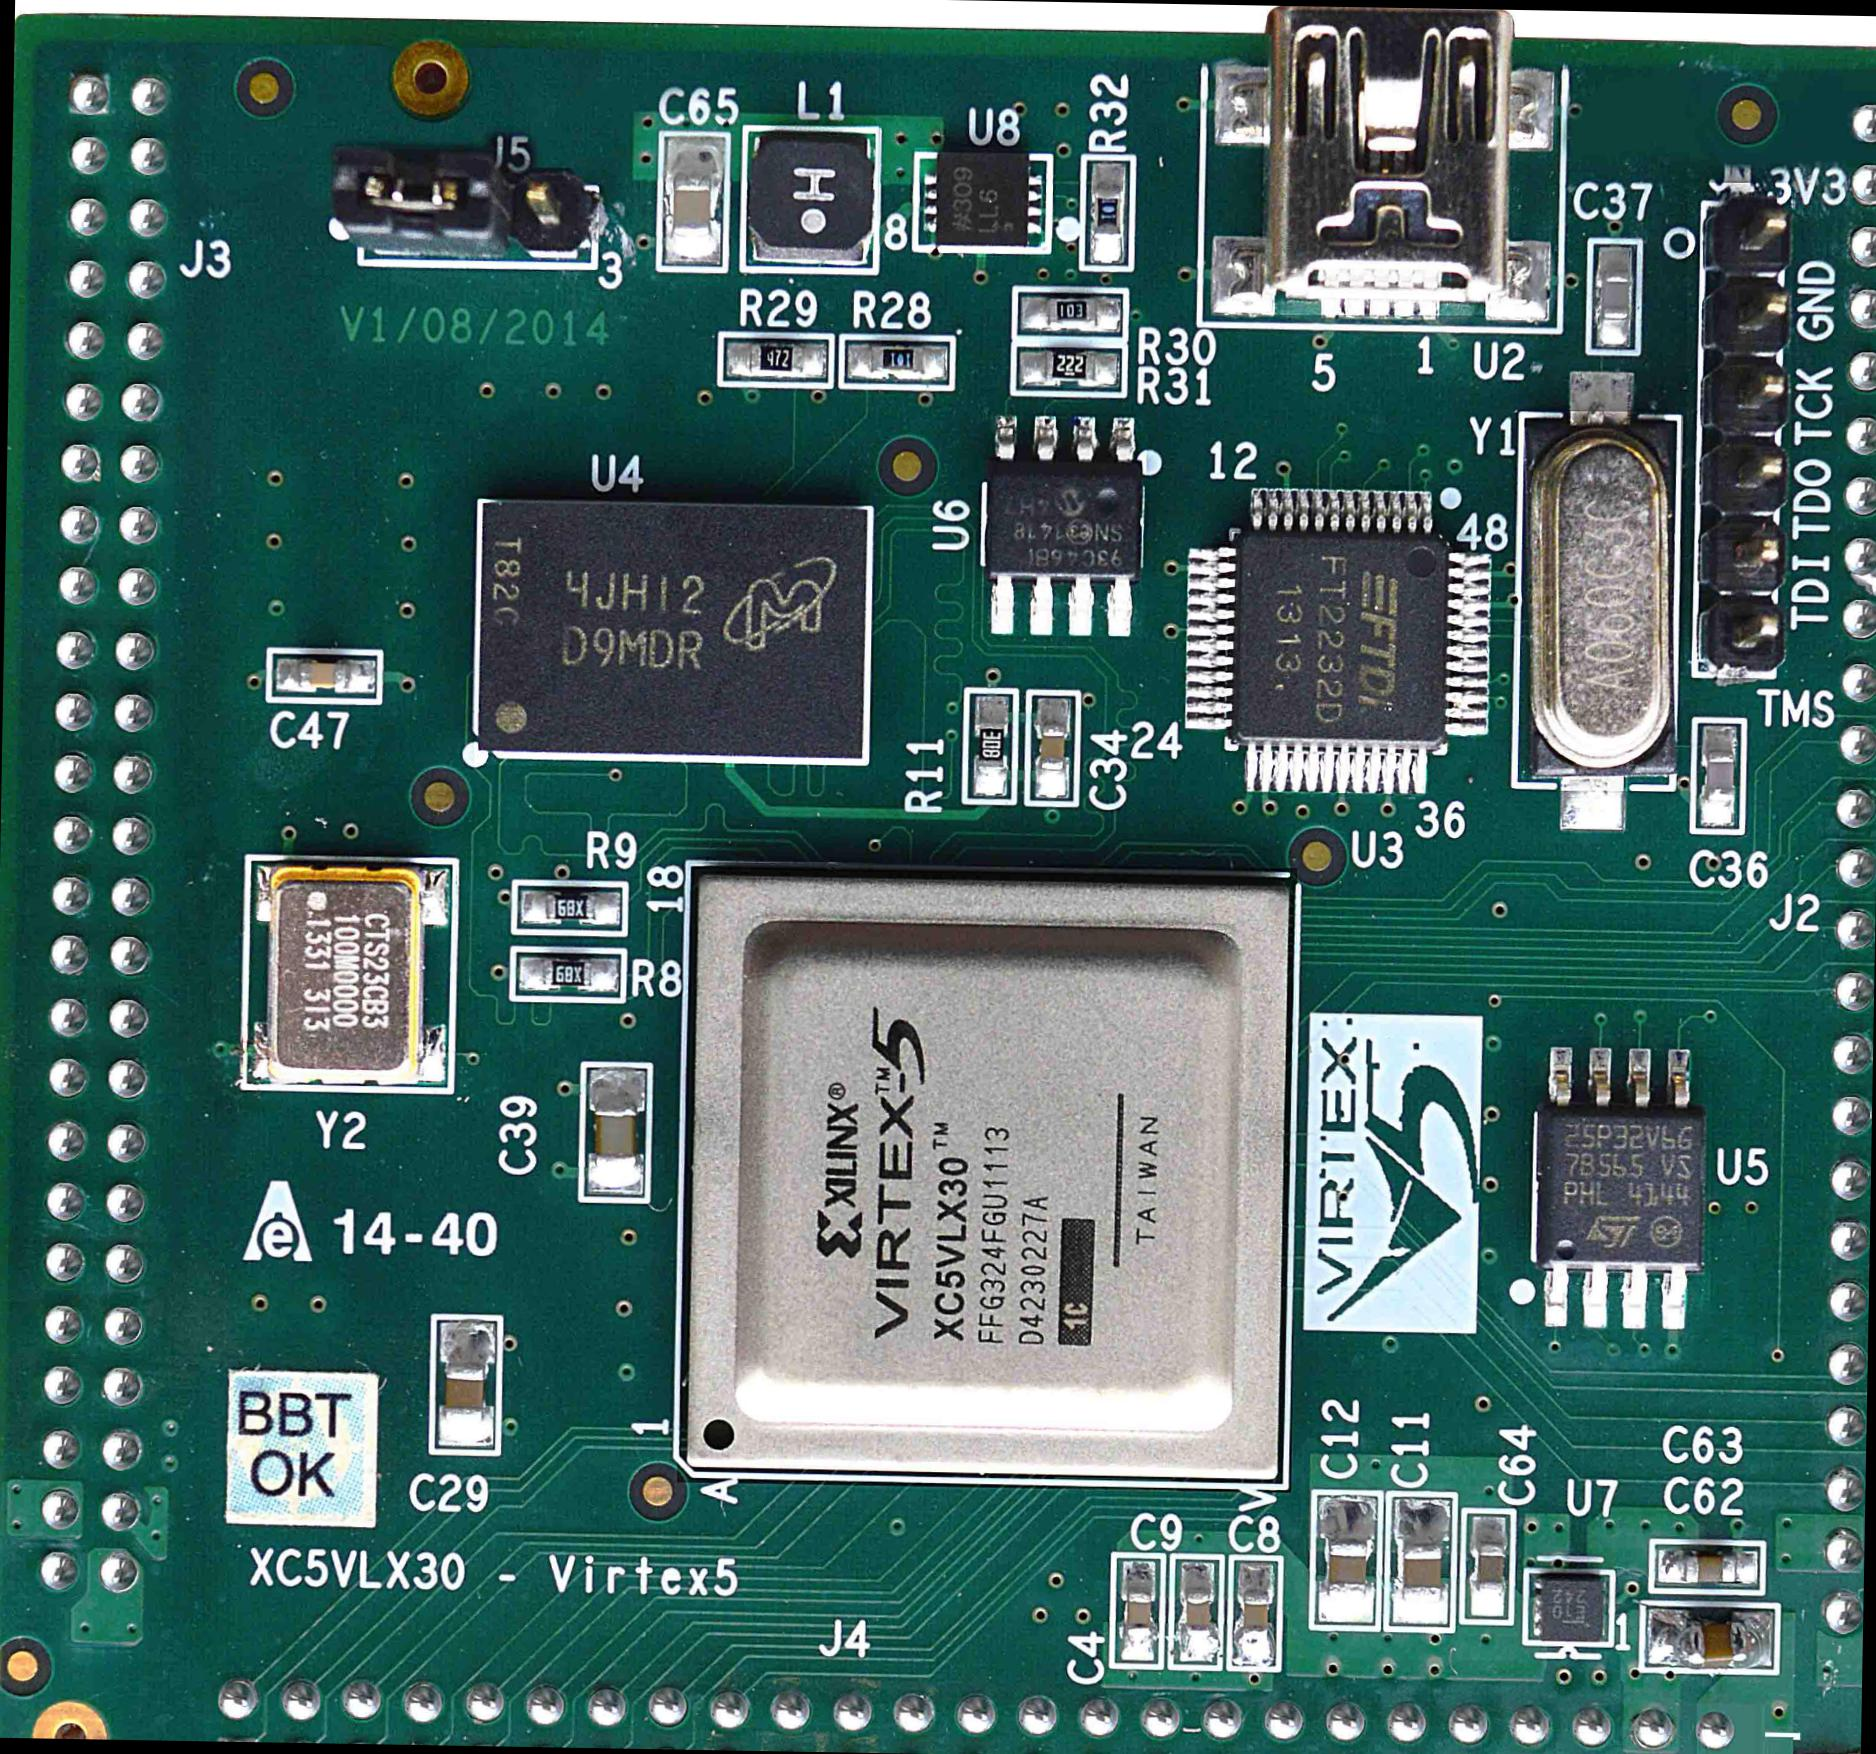Capacitor: (1642, 1602, 1779, 1672), (660, 135, 730, 272), (582, 1064, 650, 1202), (433, 1315, 499, 1455), (1311, 1493, 1377, 1633), (1390, 1494, 1452, 1632), (1584, 238, 1642, 354), (1460, 1510, 1516, 1628), (1170, 1555, 1226, 1668), (1026, 691, 1080, 807), (1110, 1554, 1164, 1667), (1230, 1558, 1282, 1672), (1652, 1539, 1762, 1592), (269, 651, 380, 702), (1696, 723, 1742, 832)
Clock: (1512, 365, 1672, 836), (246, 858, 454, 1090)
Connector: (1198, 4, 1566, 330), (1696, 201, 1781, 682), (510, 164, 600, 272)
IC: (680, 878, 1292, 1498), (473, 501, 869, 762), (1186, 486, 1488, 792), (1528, 1044, 1705, 1333), (976, 409, 1150, 639), (913, 150, 1055, 256), (1524, 1568, 1614, 1646)
Inductor: (736, 127, 878, 276)
Jumper: (312, 140, 514, 270)
Pins: (13, 49, 184, 1614), (198, 1671, 1862, 1753), (1818, 94, 1875, 1661)
Resistor Network: (1074, 154, 1134, 266), (516, 879, 628, 938), (511, 946, 626, 1003), (840, 334, 953, 392), (513, 945, 624, 1003), (1016, 286, 1130, 342), (1015, 339, 1125, 397), (718, 332, 834, 384), (965, 690, 1016, 802)
